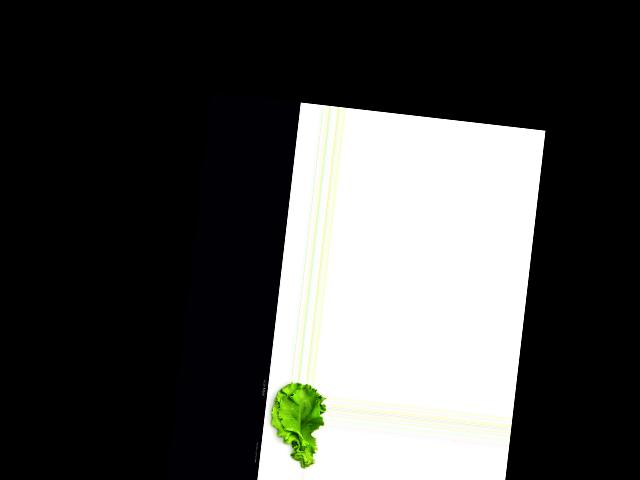lettuce: (261, 379, 329, 468)
